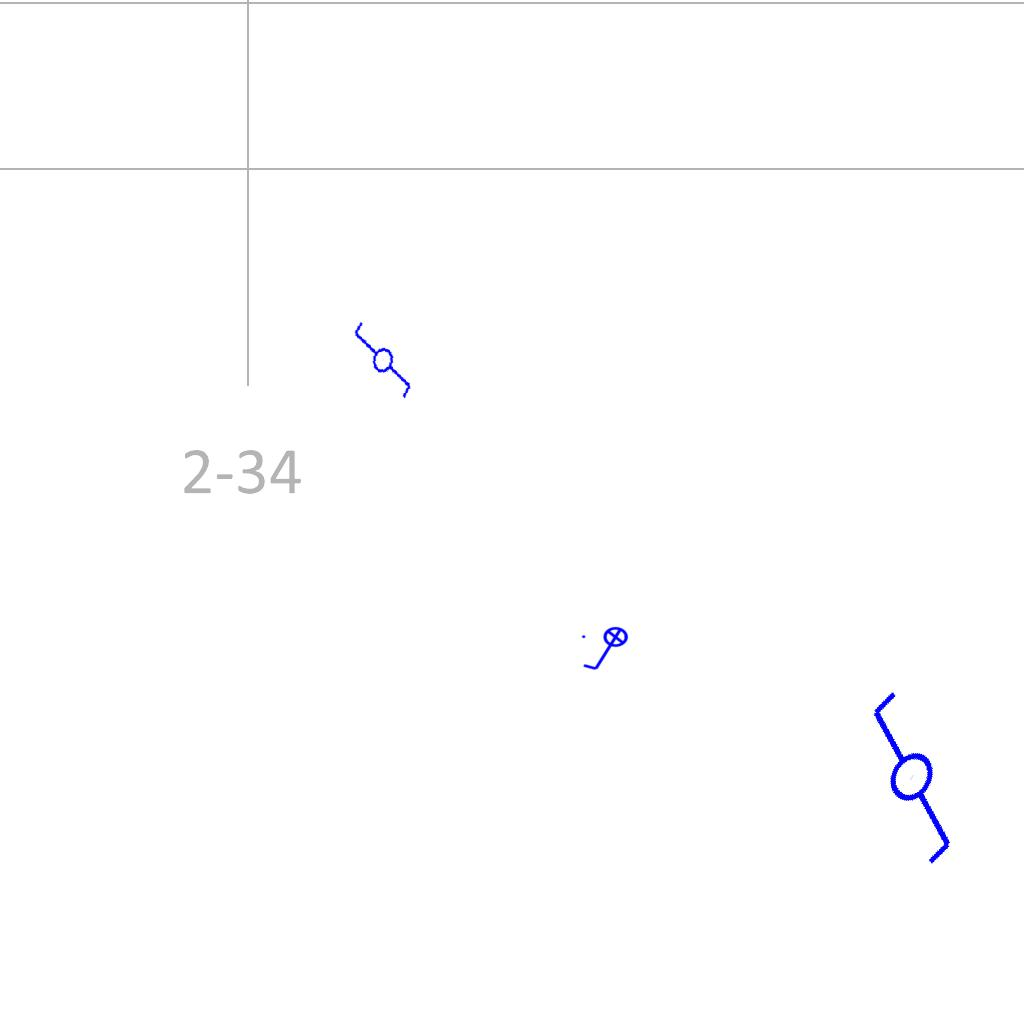Ausschalter_beleuchtet: (579, 626, 635, 674)
Wechselschalter: (816, 667, 1019, 875), (337, 318, 425, 410)
